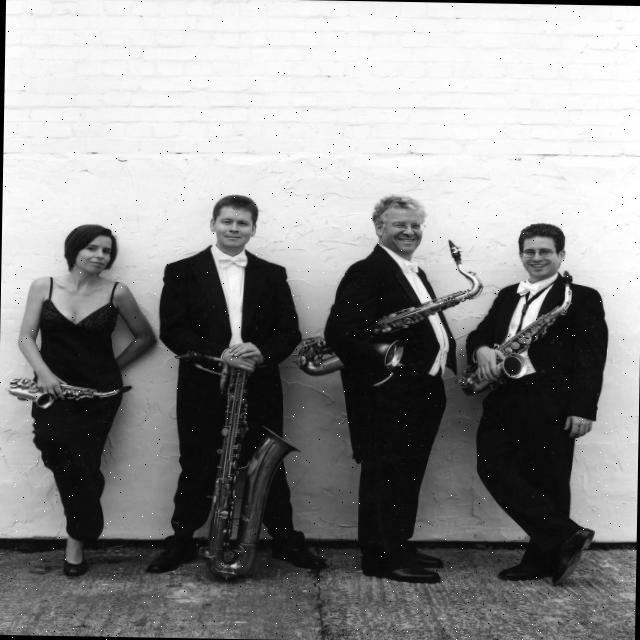saxophone: (162, 346, 314, 586), (294, 232, 487, 382), (464, 268, 578, 399), (1, 378, 136, 407)
